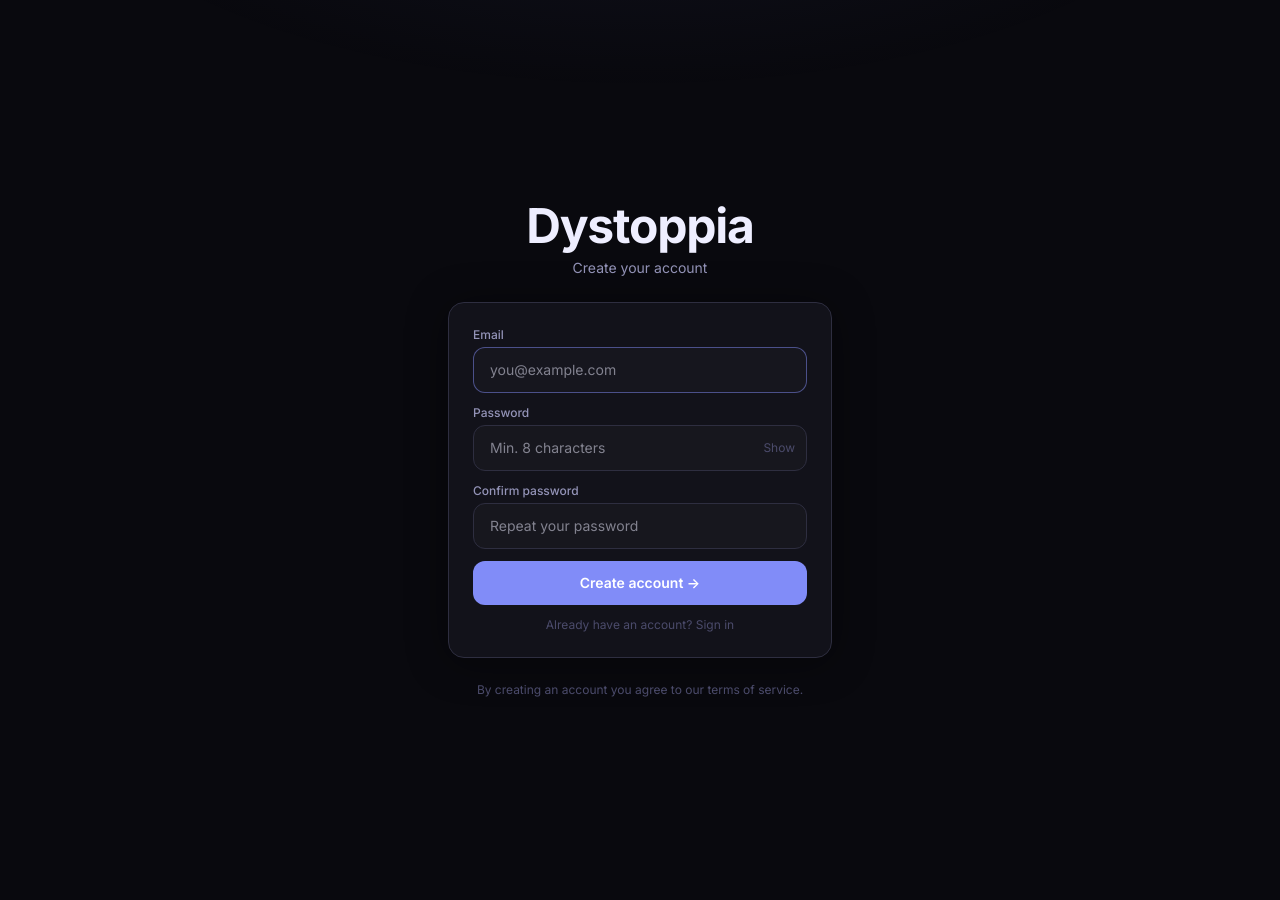
Test: RegisterPage — step 1 API interaction › shows generic error on network failure
In the field with placeholder "you@example.com": (640, 370) top-left (473, 347), bottom-right (807, 393), type "a@test.com"
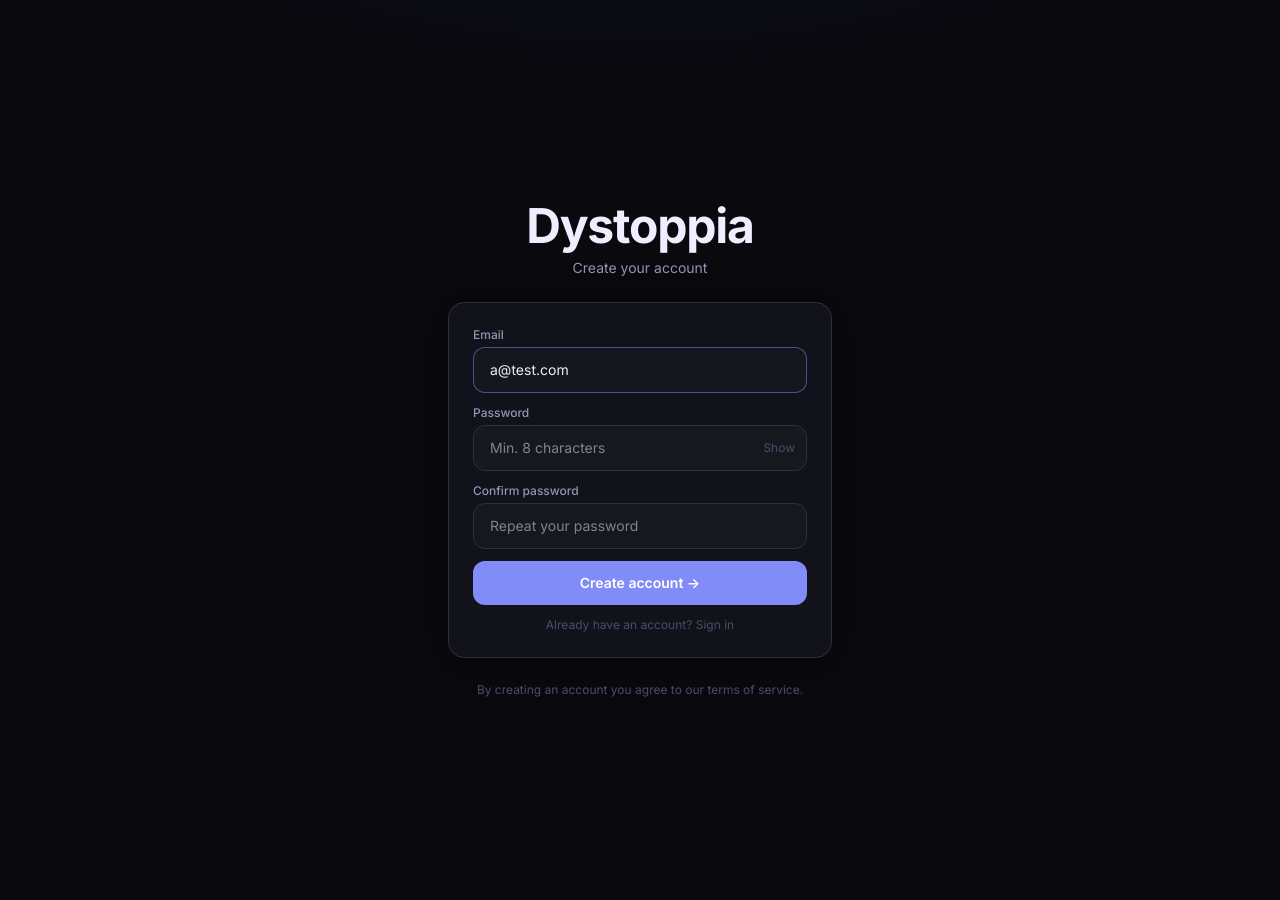
In the password field with placeholder "Min. 8 characters": (640, 448) top-left (473, 425), bottom-right (807, 471), type "password123"
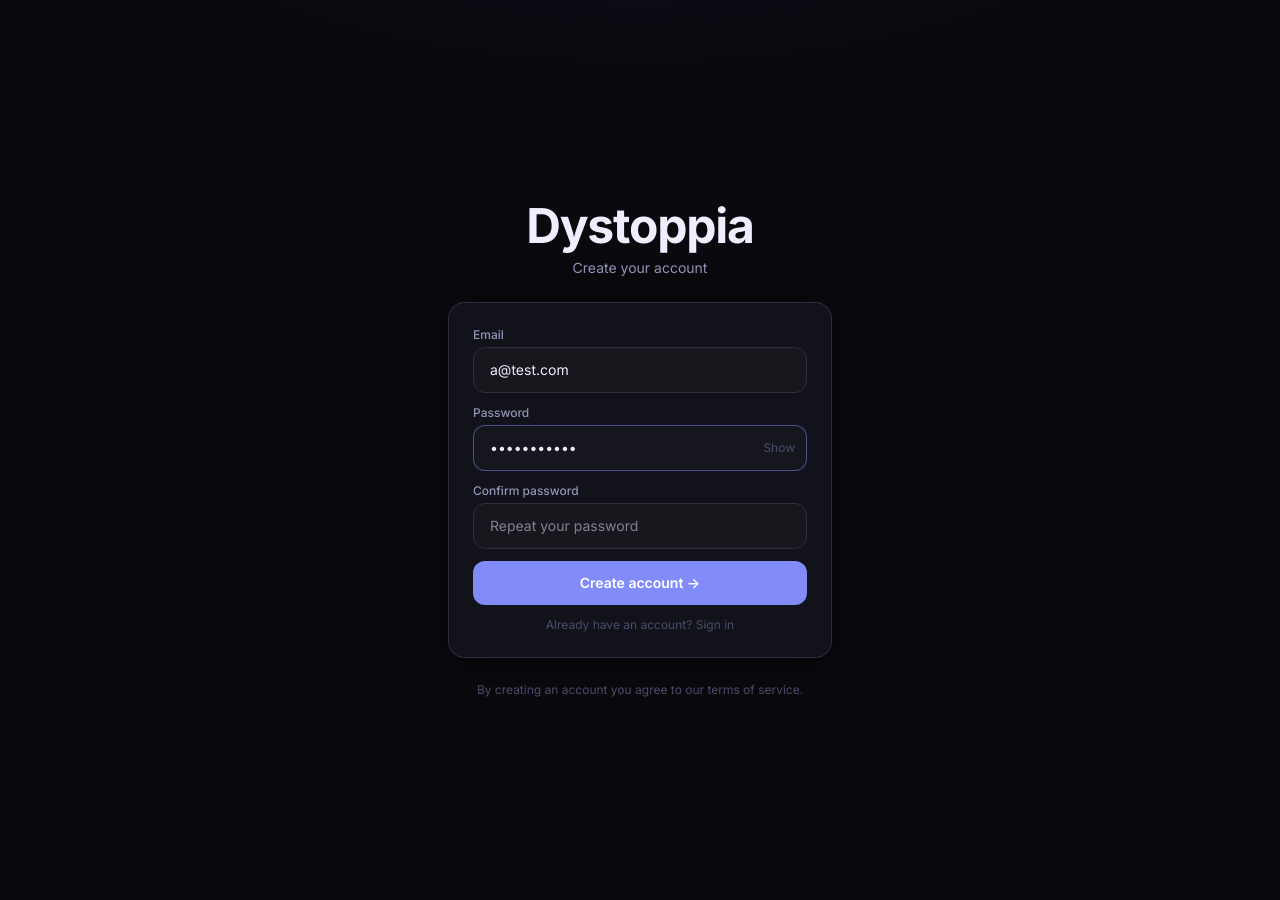
In the password field with placeholder "Repeat your password": (640, 526) top-left (473, 503), bottom-right (807, 549), type "password123"
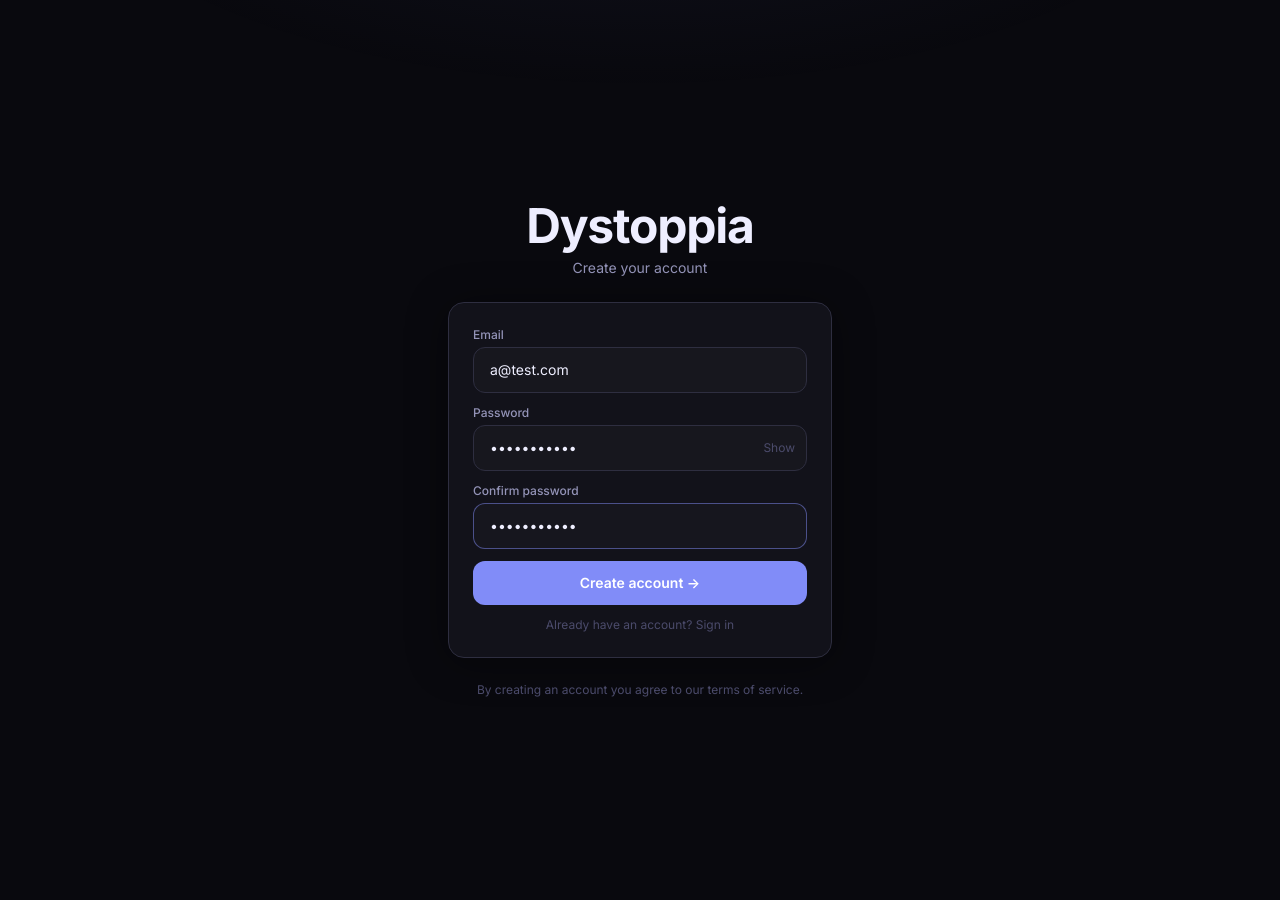
Click the button "Create account →": (640, 583) top-left (473, 561), bottom-right (807, 605)
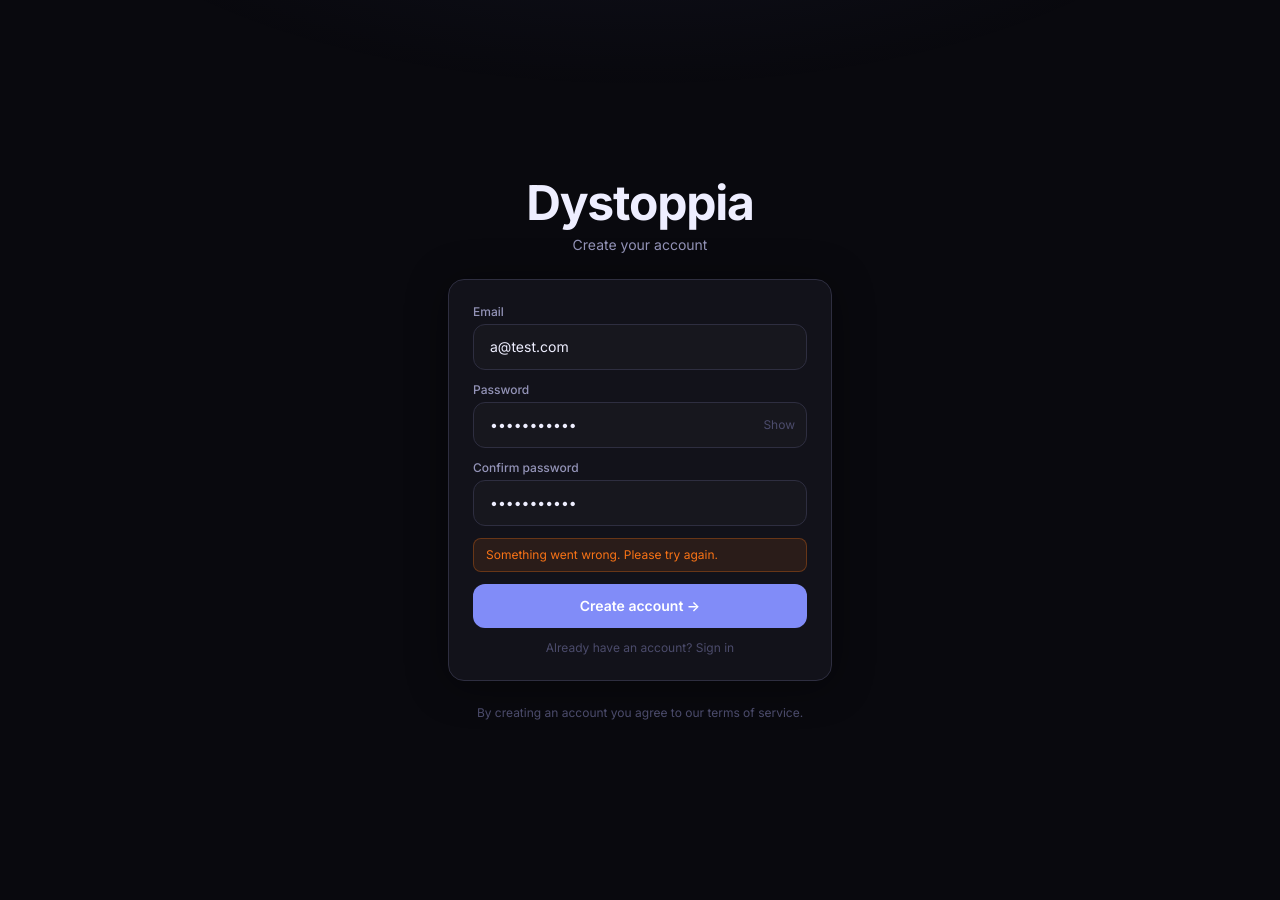
Now the text "Something went wrong. Please try again." is shown, box top-left (473, 538), bottom-right (807, 572)
